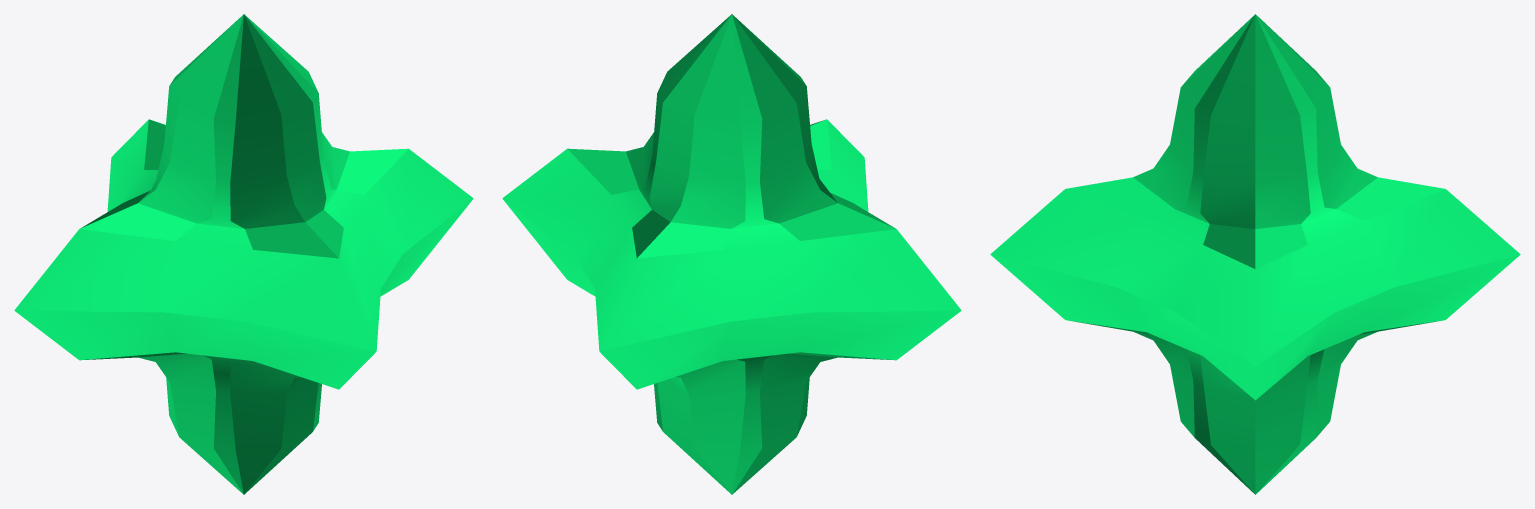
Rendered from Particle_Sparkle_thin.fbx.
The picture shows the model from 3 angles, left to right: view 1: azimuth 30°, elevation 25°; view 2: azimuth 150°, elevation 25°; view 3: azimuth 270°, elevation 25°; orthographic projection.
Visible parts, largest first — view 1: sparkle_pSuperShape_thin; view 2: sparkle_pSuperShape_thin; view 3: sparkle_pSuperShape_thin.
Part boxes in pixels (left/top/right/bottom): sparkle_pSuperShape_thin: left=14, top=14, right=473, bottom=494; sparkle_pSuperShape_thin: left=502, top=14, right=961, bottom=494; sparkle_pSuperShape_thin: left=990, top=14, right=1520, bottom=494.
Bounding box in the file's own units: 0.0857 × 0.0857 × 0.0857.
